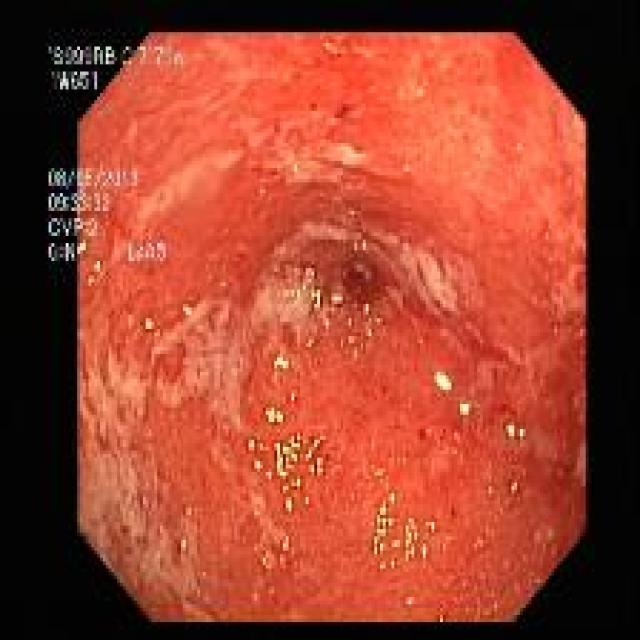ulcerative-colitis: (78, 33, 585, 622)
